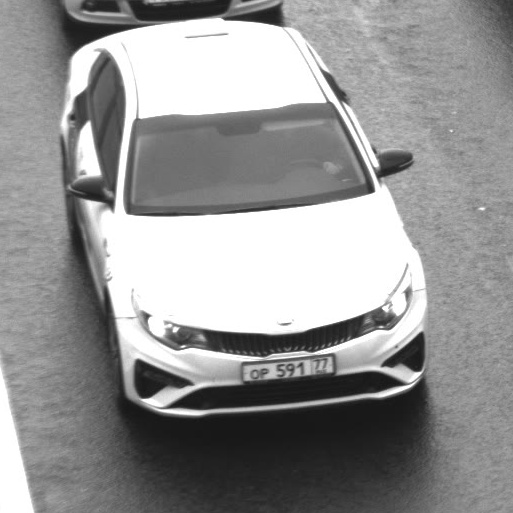plate: (231, 343, 346, 389)
